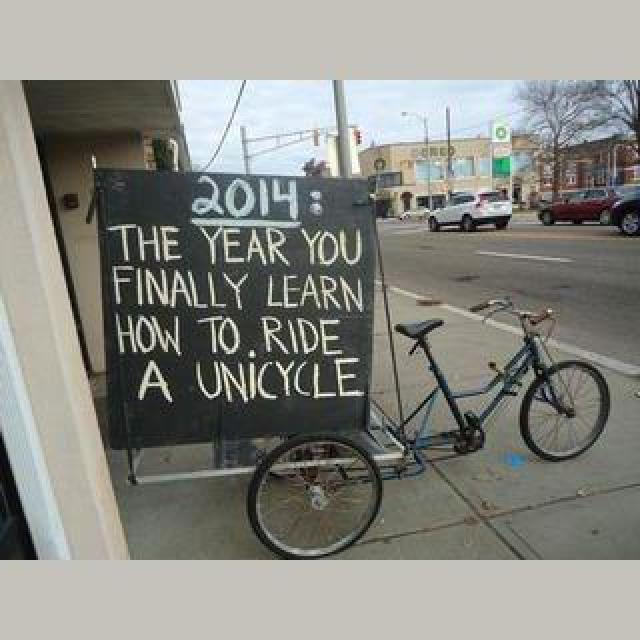Bus-Bike: (424, 190, 514, 232), (538, 188, 622, 226)
Person: (248, 278, 618, 560)
Person-Bike: (426, 190, 512, 232)
